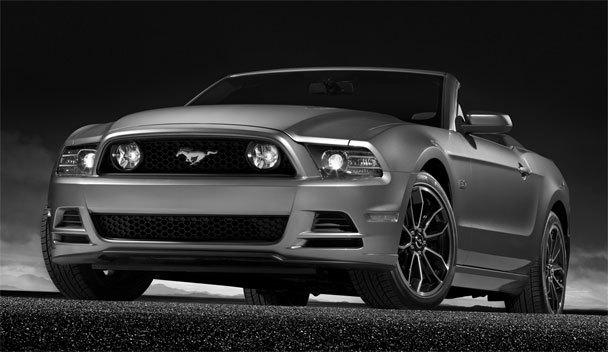car: (40, 70, 574, 317)
